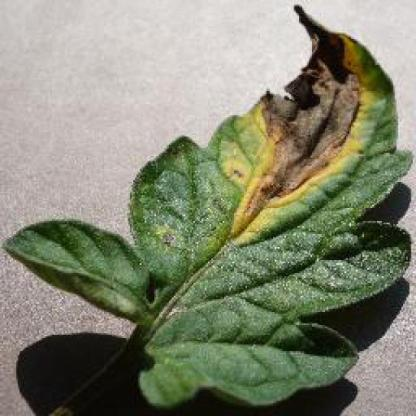Tomato_Blight: (9, 12, 409, 409)
